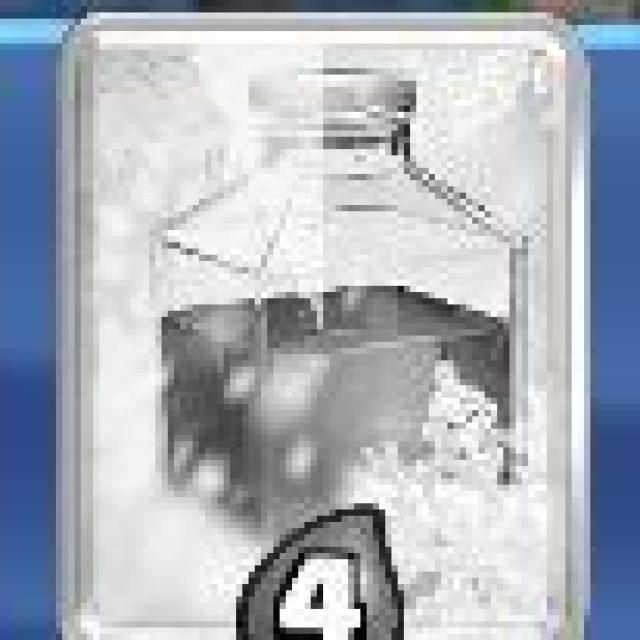Freeze: (53, 16, 588, 640)
